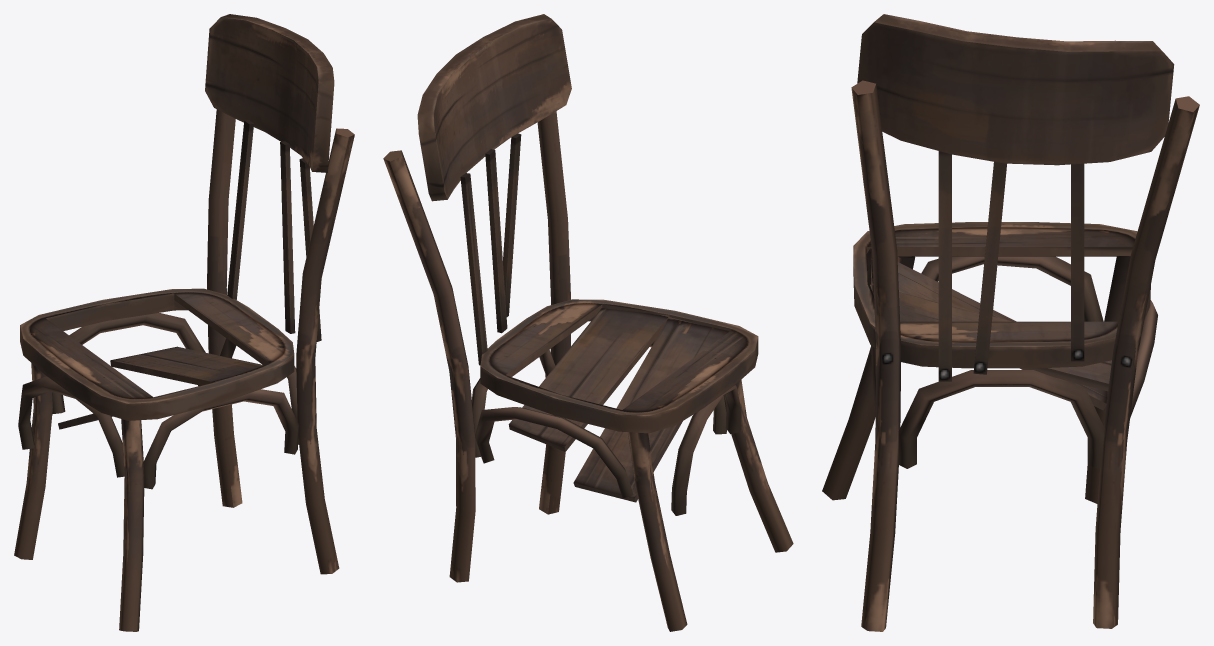
Rendered from chair12_B.FBX.
The picture shows the model from 3 angles, left to right: view 1: azimuth 30°, elevation 25°; view 2: azimuth 150°, elevation 25°; view 3: azimuth 270°, elevation 25°; orthographic projection. The views are drawn at different scales.
Parts seen in each view (by area): view 1: chair12_B; view 2: chair12_B; view 3: chair12_B.
Boxes of the visible parts, box(x1,y1,x2,y2) form: chair12_B: box(14, 14, 354, 631); chair12_B: box(383, 14, 793, 631); chair12_B: box(822, 14, 1199, 631).
Bounding box in the file's own units: 57.18 × 103 × 57.28.
